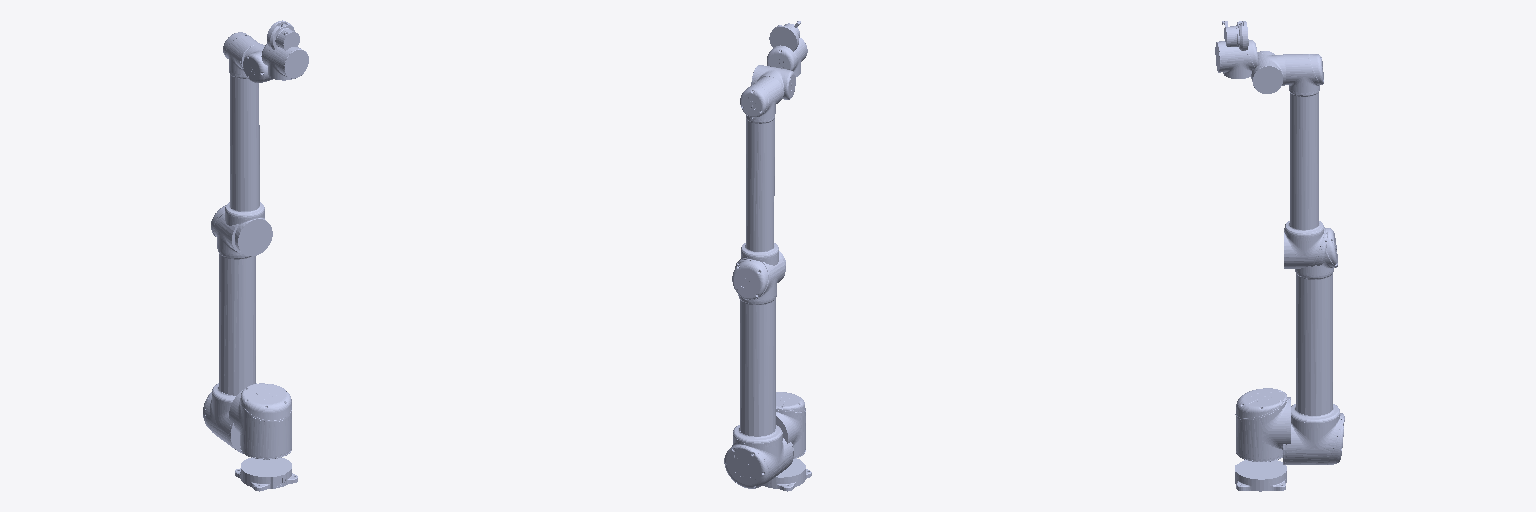
URDF robot description (ur10):
<?xml version="1.0" encoding="utf-8"?>
<!-- This URDF was automatically created by SolidWorks to URDF Exporter! Originally created by [author] ([email redacted]) 
     Commit Version: 1.6.0-4-g7f85cfe  Build Version: 1.6.7995.38578
     For more information, please see http://wiki.ros.org/sw_urdf_exporter -->
<robot
  name="ur10">
  <link
    name="base_link">
    <inertial>
      <origin
        xyz="6.991E-06 -0.00015935 0.018435"
        rpy="0 0 0" />
      <mass
        value="0.70632" />
      <inertia
        ixx="0.0011556"
        ixy="4.8008E-08"
        ixz="7.8755E-08"
        iyy="0.0011458"
        iyz="1.9954E-07"
        izz="0.002129" />
    </inertial>
    <visual>
      <origin
        xyz="0 0 0"
        rpy="0 0 0" />
      <geometry>
        <mesh
          filename="package://ur10/meshes/base_link.STL" />
      </geometry>
      <material
        name="">
        <color
          rgba="0.79216 0.81961 0.93333 1" />
      </material>
    </visual>
    <collision>
      <origin
        xyz="0 0 0"
        rpy="0 0 0" />
      <geometry>
        <mesh
          filename="package://ur10/meshes/base_link.STL" />
      </geometry>
    </collision>
  </link>
  <link
    name="link1">
    <inertial>
      <origin
        xyz="-0.0014499 0.011524 0.022945"
        rpy="0 0 0" />
      <mass
        value="3.0735" />
      <inertia
        ixx="0.011465"
        ixy="9.4281E-05"
        ixz="0.00010652"
        iyy="0.010728"
        iyz="-0.00085191"
        izz="0.01012" />
    </inertial>
    <visual>
      <origin
        xyz="0 0 0"
        rpy="0 0 0" />
      <geometry>
        <mesh
          filename="package://ur10/meshes/link1.STL" />
      </geometry>
      <material
        name="">
        <color
          rgba="0.79216 0.81961 0.93333 1" />
      </material>
    </visual>
    <collision>
      <origin
        xyz="0 0 0"
        rpy="0 0 0" />
      <geometry>
        <mesh
          filename="package://ur10/meshes/link1.STL" />
      </geometry>
    </collision>
  </link>
  <joint
    name="joint1"
    type="revolute">
    <origin
      xyz="0 0 0.093531"
      rpy="0 0 0" />
    <parent
      link="base_link" />
    <child
      link="link1" />
    <axis
      xyz="0 0 1" />
    <limit
      lower="0"
      upper="0"
      effort="0"
      velocity="0" />
  </joint>
  <link
    name="link2">
    <inertial>
      <origin
        xyz="-0.009639 -0.25102 0.10535"
        rpy="0 0 0" />
      <mass
        value="8.7124" />
      <inertia
        ixx="0.096486"
        ixy="0.0010276"
        ixz="0.00019327"
        iyy="0.019933"
        iyz="0.00072352"
        izz="0.09494" />
    </inertial>
    <visual>
      <origin
        xyz="0 0 0"
        rpy="0 0 0" />
      <geometry>
        <mesh
          filename="package://ur10/meshes/link2.STL" />
      </geometry>
      <material
        name="">
        <color
          rgba="0.79216 0.81961 0.93333 1" />
      </material>
    </visual>
    <collision>
      <origin
        xyz="0 0 0"
        rpy="0 0 0" />
      <geometry>
        <mesh
          filename="package://ur10/meshes/link2.STL" />
      </geometry>
    </collision>
  </link>
  <joint
    name="joint2"
    type="revolute">
    <origin
      xyz="-0.0080906 0.064097 0.034469"
      rpy="-1.5708 0 0" />
    <parent
      link="link1" />
    <child
      link="link2" />
    <axis
      xyz="0.12523 0 -0.99213" />
    <limit
      lower="0"
      upper="0"
      effort="0"
      velocity="0" />
  </joint>
  <link
    name="link3">
    <inertial>
      <origin
        xyz="0.25692 0.0031743 -0.015961"
        rpy="0 0 0" />
      <mass
        value="4.6535" />
      <inertia
        ixx="0.0059562"
        ixy="-0.00024149"
        ixz="0.00028399"
        iyy="0.051707"
        iyz="3.6751E-05"
        izz="0.051428" />
    </inertial>
    <visual>
      <origin
        xyz="0 0 0"
        rpy="0 0 0" />
      <geometry>
        <mesh
          filename="package://ur10/meshes/link3.STL" />
      </geometry>
      <material
        name="">
        <color
          rgba="0.79216 0.81961 0.93333 1" />
      </material>
    </visual>
    <collision>
      <origin
        xyz="0 0 0"
        rpy="0 0 0" />
      <geometry>
        <mesh
          filename="package://ur10/meshes/link3.STL" />
      </geometry>
    </collision>
  </link>
  <joint
    name="joint3"
    type="revolute">
    <origin
      xyz="0.0088123 -0.61284 0.0011123"
      rpy="0 0 -1.5708" />
    <parent
      link="link2" />
    <child
      link="link3" />
    <axis
      xyz="0 0.12523 -0.99213" />
    <limit
      lower="0"
      upper="0"
      effort="0"
      velocity="0" />
  </joint>
  <link
    name="link4">
    <inertial>
      <origin
        xyz="-2.9832E-06 0.0097372 0.12451"
        rpy="0 0 0" />
      <mass
        value="0.7285" />
      <inertia
        ixx="0.001115"
        ixy="-7.4682E-08"
        ixz="-3.507E-08"
        iyy="0.00088376"
        iyz="-9.0798E-05"
        izz="0.0010309" />
    </inertial>
    <visual>
      <origin
        xyz="0 0 0"
        rpy="0 0 0" />
      <geometry>
        <mesh
          filename="package://ur10/meshes/link4.STL" />
      </geometry>
      <material
        name="">
        <color
          rgba="0.79216 0.81961 0.93333 1" />
      </material>
    </visual>
    <collision>
      <origin
        xyz="0 0 0"
        rpy="0 0 0" />
      <geometry>
        <mesh
          filename="package://ur10/meshes/link4.STL" />
      </geometry>
    </collision>
  </link>
  <joint
    name="joint4"
    type="revolute">
    <origin
      xyz="0.57159 0.0025404 0.00032066"
      rpy="3.1416 -0.12556 1.5708" />
    <parent
      link="link3" />
    <child
      link="link4" />
    <axis
      xyz="0 0 -1" />
    <limit
      lower="0"
      upper="0"
      effort="0"
      velocity="0" />
  </joint>
  <link
    name="link5">
    <inertial>
      <origin
        xyz="-1.4168E-06 0.0097368 0.1081"
        rpy="0 0 0" />
      <mass
        value="0.72852" />
      <inertia
        ixx="0.0011151"
        ixy="-7.899E-08"
        ixz="-2.9295E-08"
        iyy="0.00088375"
        iyz="-9.0796E-05"
        izz="0.0010309" />
    </inertial>
    <visual>
      <origin
        xyz="0 0 0"
        rpy="0 0 0" />
      <geometry>
        <mesh
          filename="package://ur10/meshes/link5.STL" />
      </geometry>
      <material
        name="">
        <color
          rgba="0.79216 0.81961 0.93333 1" />
      </material>
    </visual>
    <collision>
      <origin
        xyz="0 0 0"
        rpy="0 0 0" />
      <geometry>
        <mesh
          filename="package://ur10/meshes/link5.STL" />
      </geometry>
    </collision>
  </link>
  <joint
    name="joint5"
    type="revolute">
    <origin
      xyz="0 0 0.13211"
      rpy="1.5708 -0.014748 3.1416" />
    <parent
      link="link4" />
    <child
      link="link5" />
    <axis
      xyz="0 0 1" />
    <limit
      lower="0"
      upper="0"
      effort="0"
      velocity="0" />
  </joint>
  <link
    name="link6">
    <inertial>
      <origin
        xyz="0.00052351 -0.00025127 0.064651"
        rpy="0 0 0" />
      <mass
        value="0.26035" />
      <inertia
        ixx="0.00035371"
        ixy="-2.2812E-06"
        ixz="-4.2614E-07"
        iyy="0.00035005"
        iyz="2.0453E-07"
        izz="0.0001946" />
    </inertial>
    <visual>
      <origin
        xyz="0 0 0"
        rpy="0 0 0" />
      <geometry>
        <mesh
          filename="package://ur10/meshes/link6.STL" />
      </geometry>
      <material
        name="">
        <color
          rgba="0.79216 0.81961 0.93333 1" />
      </material>
    </visual>
    <collision>
      <origin
        xyz="0 0 0"
        rpy="0 0 0" />
      <geometry>
        <mesh
          filename="package://ur10/meshes/link6.STL" />
      </geometry>
    </collision>
  </link>
  <joint
    name="joint6"
    type="revolute">
    <origin
      xyz="0 0.044875 0.1157"
      rpy="-1.5708 0 0" />
    <parent
      link="link5" />
    <child
      link="link6" />
    <axis
      xyz="0 0 -1" />
    <limit
      lower="0"
      upper="0"
      effort="0"
      velocity="0" />
  </joint>
</robot>

--- Facts derived from the render (not from the file) ---
3 views of the same robot in one strip: view 1: azimuth 30°, elevation 25°; view 2: azimuth 150°, elevation 25°; view 3: azimuth 270°, elevation 25° (orthographic).
Model ur10 with 7 links and 6 joints (6 revolute), rooted at base_link, posed every joint at zero.
Links seen in each view (by area): view 1: link2, link3, link1, base_link, link5, link4, link6; view 2: link2, link3, link1, link5, base_link, link4, link6; view 3: link2, link3, link1, base_link, link5, link4, link6.
Link boxes in pixels (x1=…): link2: x1=203, y1=205, x2=256, y2=453; link3: x1=223, y1=32, x2=272, y2=255; link1: x1=229, y1=383, x2=291, y2=459; base_link: x1=235, y1=458, x2=297, y2=491; link5: x1=261, y1=44, x2=308, y2=80; link4: x1=243, y1=44, x2=272, y2=83; link6: x1=267, y1=20, x2=299, y2=50; link2: x1=724, y1=255, x2=793, y2=488; link3: x1=735, y1=76, x2=785, y2=271; link1: x1=776, y1=392, x2=805, y2=458; link5: x1=767, y1=38, x2=807, y2=76; base_link: x1=763, y1=458, x2=811, y2=491; link4: x1=751, y1=65, x2=795, y2=99; link6: x1=769, y1=21, x2=800, y2=51; link2: x1=1283, y1=227, x2=1344, y2=464; link3: x1=1283, y1=54, x2=1327, y2=268; link1: x1=1235, y1=388, x2=1290, y2=461; base_link: x1=1235, y1=460, x2=1286, y2=491; link5: x1=1215, y1=40, x2=1258, y2=78; link4: x1=1251, y1=51, x2=1285, y2=93; link6: x1=1222, y1=21, x2=1248, y2=50.
Bounding box of the posed robot: 0.1601 × 0.3742 × 1.47 m (x, y, z).
7 mesh visuals loaded from 7 distinct referenced files (7 binary STL).